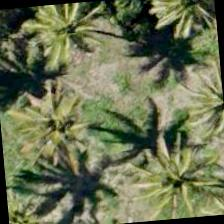Kelapa_Sawit: (0, 69, 96, 168), (127, 133, 223, 223), (4, 1, 98, 73), (4, 162, 77, 223), (142, 0, 219, 46)
